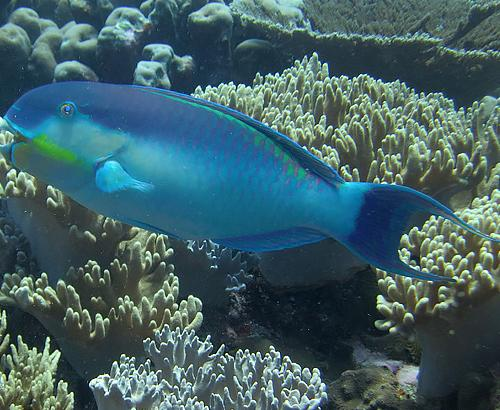Scaridae -Parrotfishes-: (0, 75, 493, 300)
